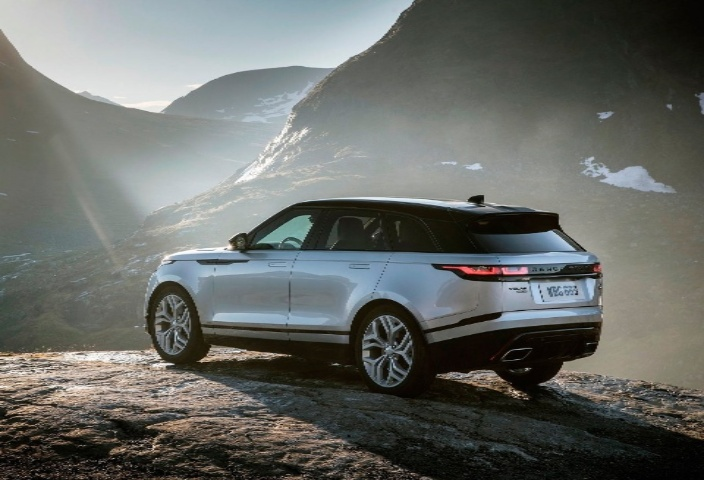camper: (120, 164, 608, 400)
